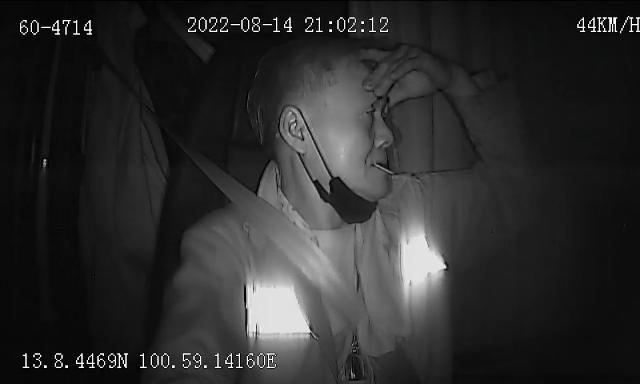Seatbelt: (188, 152, 358, 318)
